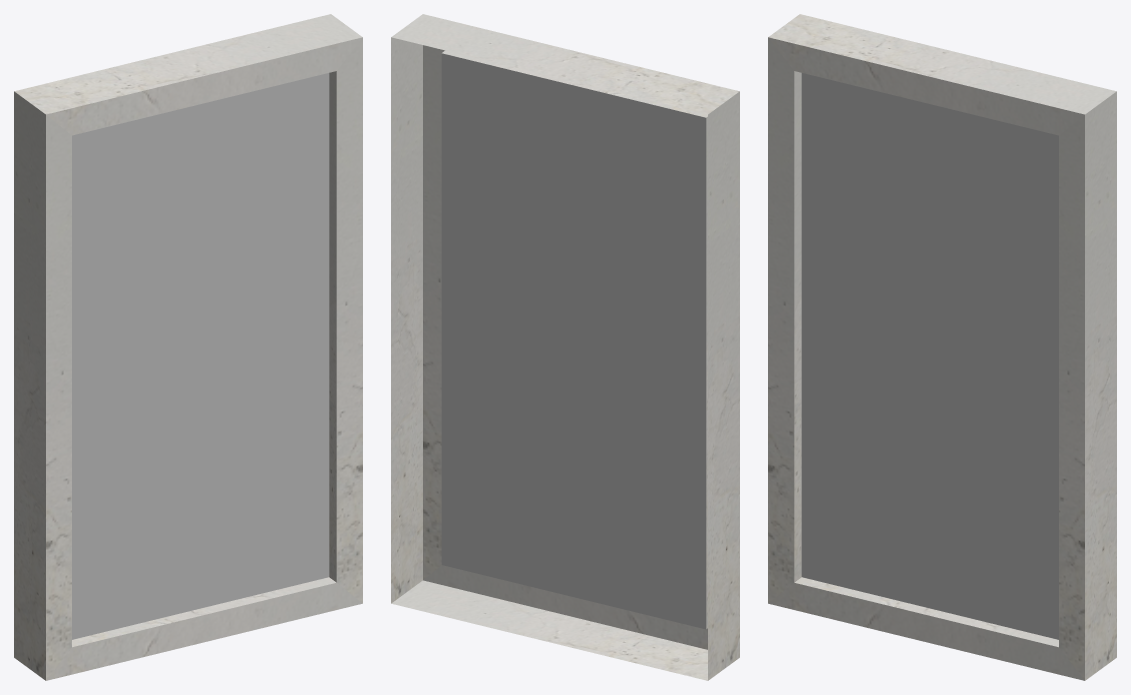
Rendered from window 6.FBX.
The picture shows the model from 3 angles, left to right: view 1: azimuth 30°, elevation 25°; view 2: azimuth 150°, elevation 25°; view 3: azimuth 330°, elevation 25°; orthographic projection.
Visible parts, largest first — view 1: window001; view 2: window001; view 3: window001.
Boxes of the visible parts, left/top/right/bottom form: window001: left=14, top=14, right=362, bottom=680; window001: left=391, top=14, right=739, bottom=680; window001: left=768, top=14, right=1116, bottom=680.
Size of the model in its own units: 0.9709 by 1.66 by 0.1688.
